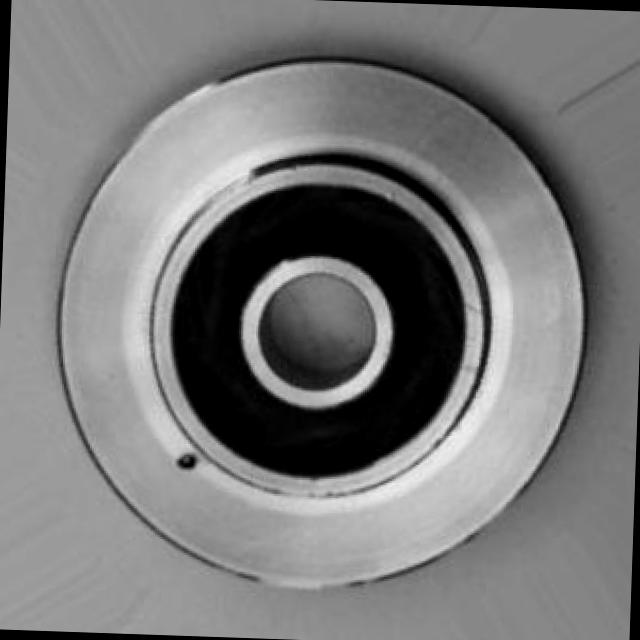Defect: (173, 446, 212, 487)
